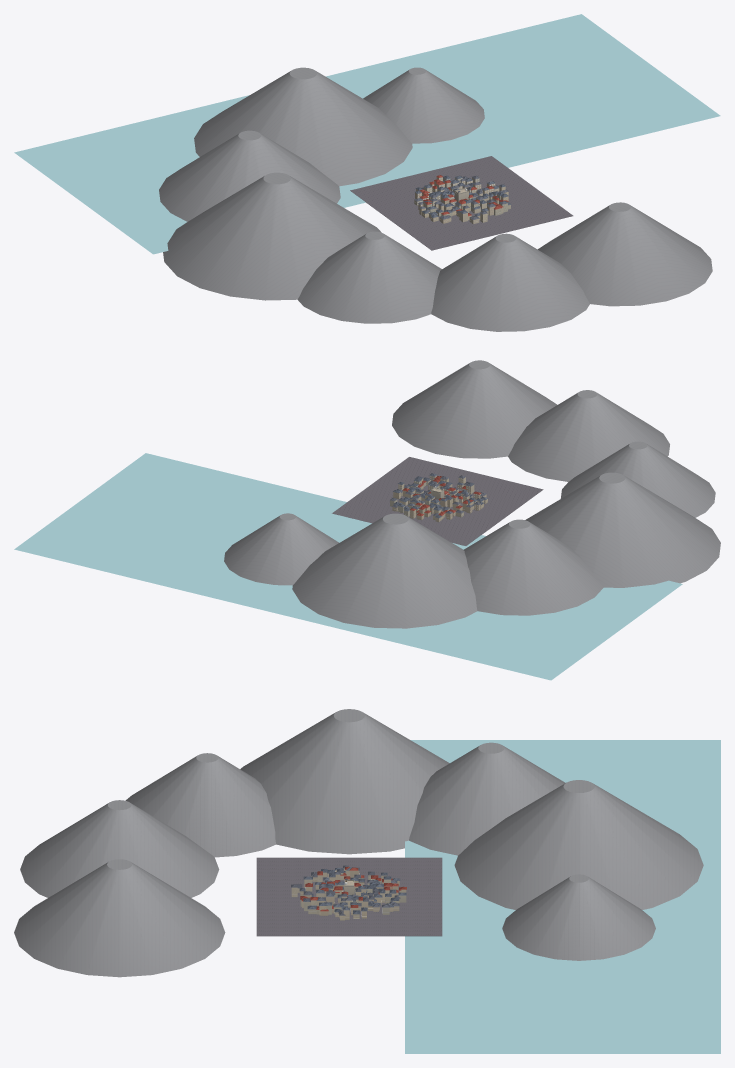
Rendered from rooftop.glb.
3 renders of one model, top to bottom at view 1: azimuth 30°, elevation 25°; view 2: azimuth 150°, elevation 25°; view 3: azimuth 270°, elevation 25°, orthographic. The views are drawn at different scales.
Parts seen in each view (by area): view 1: far_mountains, water, ground_below, houses_siding_far, roofs_kawara_far, roofs_slate_far, houses_plaster_far, roofs_kawara_red_far; view 2: far_mountains, water, ground_below, houses_siding_far, roofs_kawara_far, houses_plaster_far; view 3: far_mountains, water, ground_below, houses_siding_far, roofs_kawara_far, roofs_slate_far, houses_plaster_far, roofs_kawara_red_far.
Part boxes in pixels (x1=…): far_mountains: x1=159, y1=67, x2=712, y2=331; water: x1=14, y1=14, x2=720, y2=254; ground_below: x1=350, y1=156, x2=573, y2=250; houses_siding_far: x1=414, y1=177, x2=510, y2=223; roofs_kawara_far: x1=414, y1=175, x2=511, y2=217; roofs_slate_far: x1=414, y1=175, x2=508, y2=219; houses_plaster_far: x1=416, y1=177, x2=505, y2=223; roofs_kawara_red_far: x1=419, y1=175, x2=508, y2=216; far_mountains: x1=224, y1=360, x2=720, y2=628; water: x1=14, y1=453, x2=682, y2=680; ground_below: x1=332, y1=457, x2=543, y2=545; houses_siding_far: x1=393, y1=475, x2=487, y2=519; roofs_kawara_far: x1=393, y1=473, x2=487, y2=518; houses_plaster_far: x1=390, y1=479, x2=484, y2=521; far_mountains: x1=14, y1=709, x2=703, y2=977; water: x1=405, y1=740, x2=720, y2=1053; ground_below: x1=256, y1=857, x2=442, y2=936; houses_siding_far: x1=291, y1=868, x2=406, y2=920; roofs_kawara_far: x1=299, y1=867, x2=406, y2=914; roofs_slate_far: x1=291, y1=865, x2=400, y2=915; houses_plaster_far: x1=297, y1=870, x2=406, y2=918; roofs_kawara_red_far: x1=300, y1=867, x2=406, y2=911.
Size of the model in its own units: 801 by 98.97 by 761.
20 materials, 14 textured.
